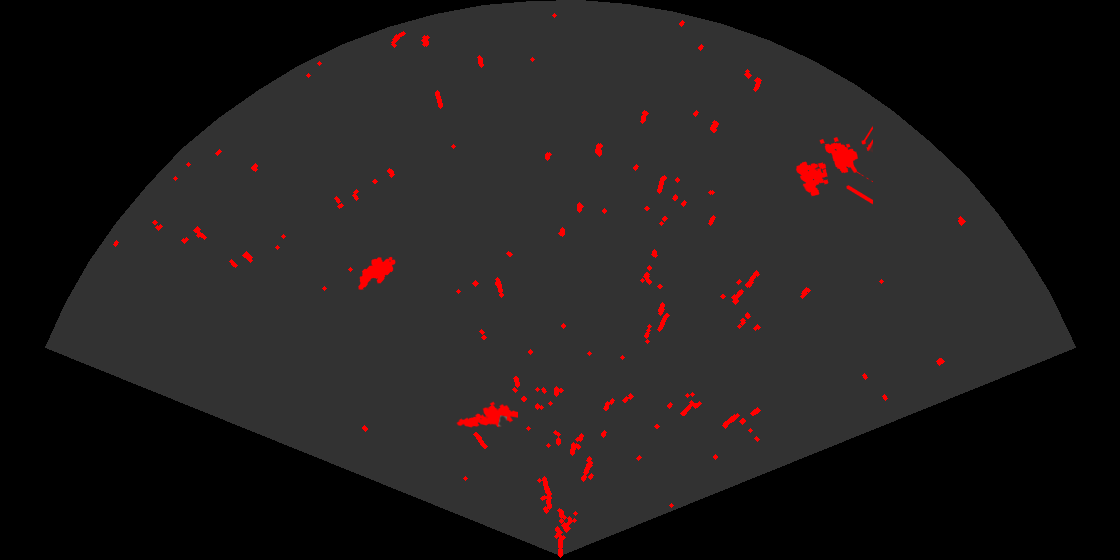AUV: (357, 255, 397, 291)
cage: (794, 125, 873, 206)
frogman: (455, 400, 518, 429)
